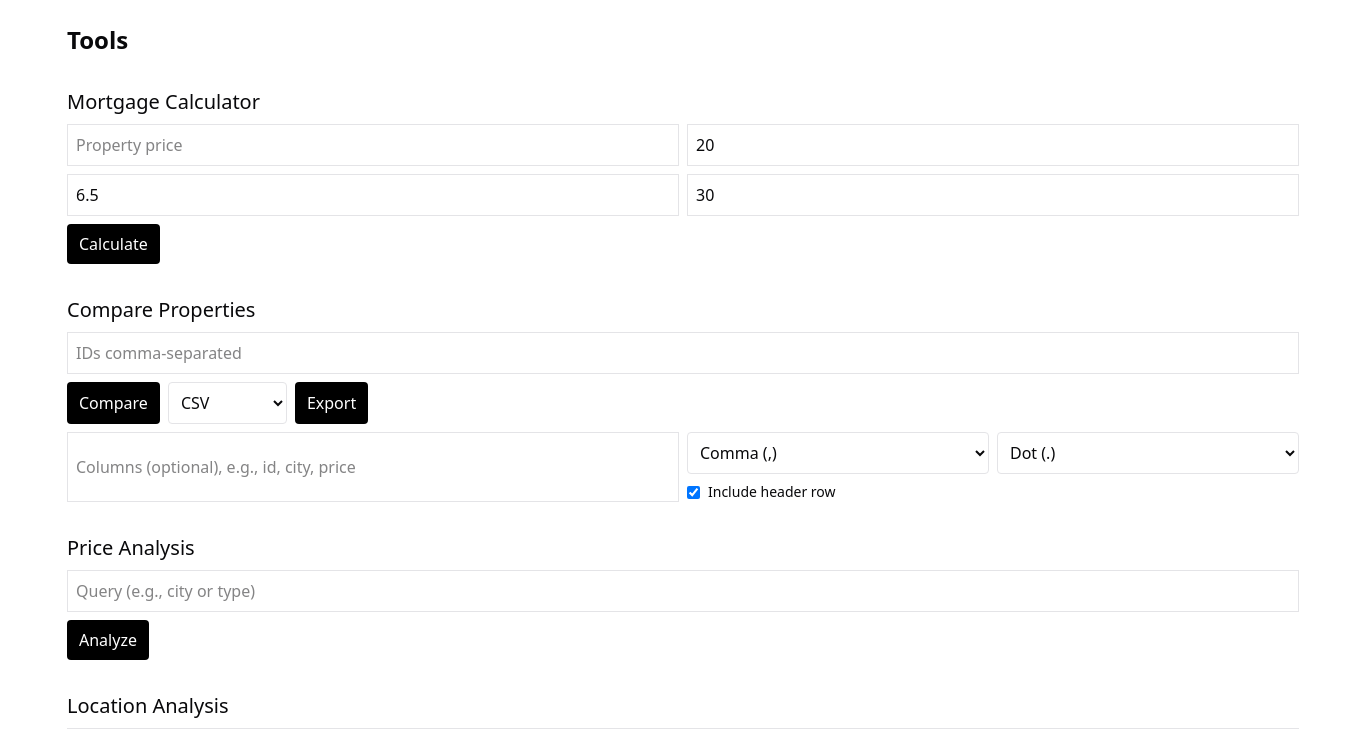
Test: ToolsPage › Error Handling › shows hint for data enrichment disabled errors
The image size is (1366, 729).
Type "100000" into the field with placeholder "Property price" at (373, 145), box [67, 124, 679, 166]
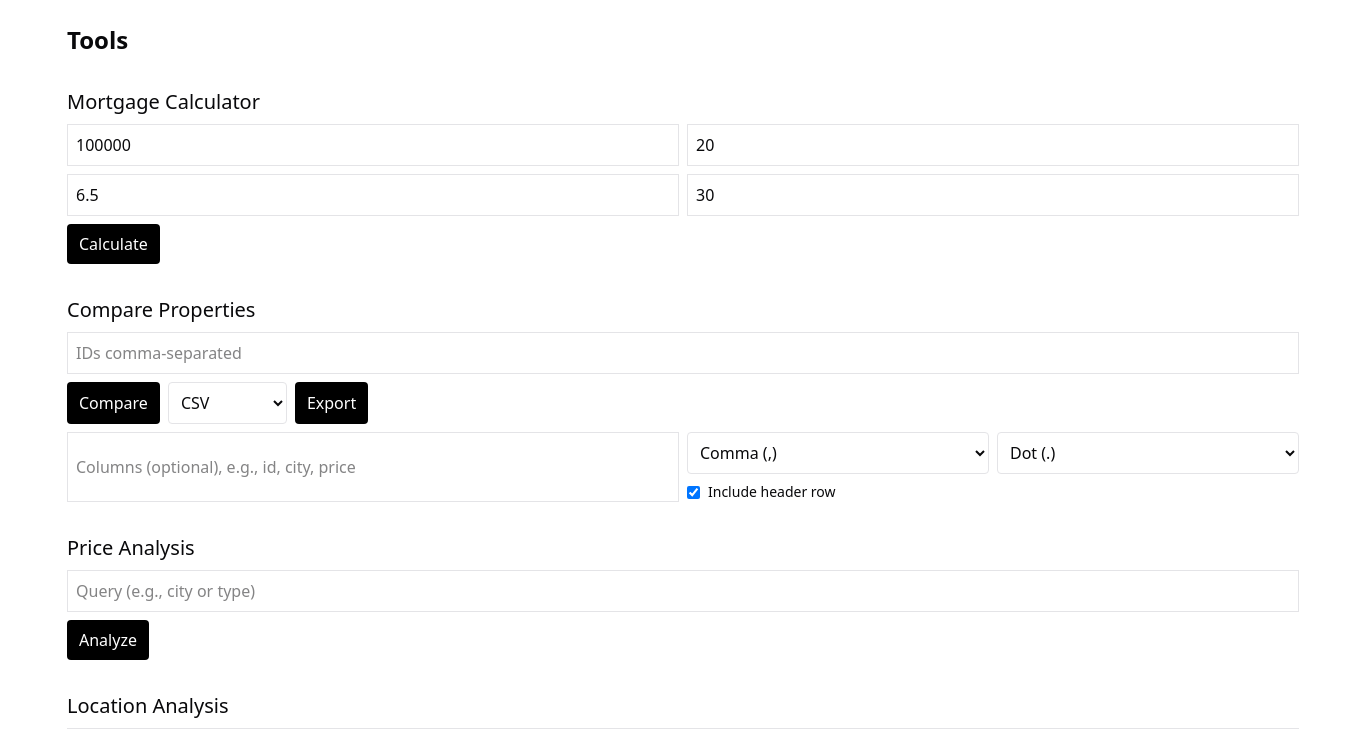
Click the button "Calculate" at (113, 244), box [67, 224, 160, 264]
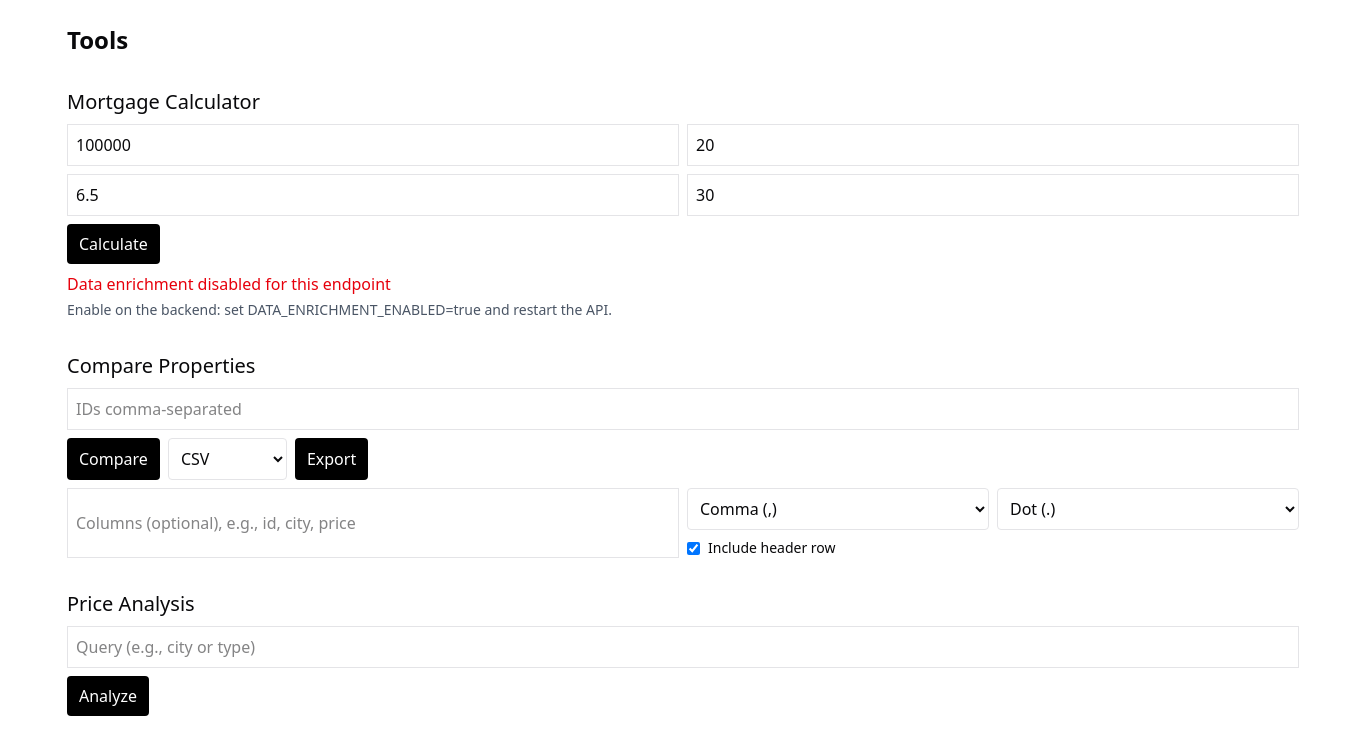
Check: the text "Enable on the backend: set DATA_ENRICHMENT_ENABLED=true" is shown, box [67, 300, 612, 319]
